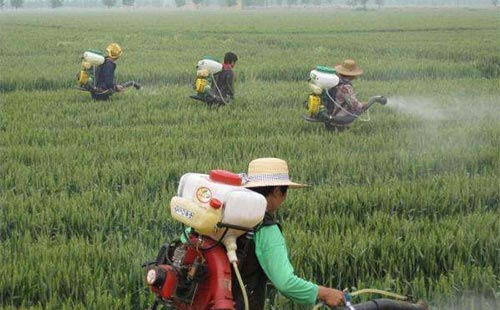berrl: (152, 170, 266, 310), (306, 66, 340, 122), (193, 57, 224, 104), (78, 49, 104, 91)
